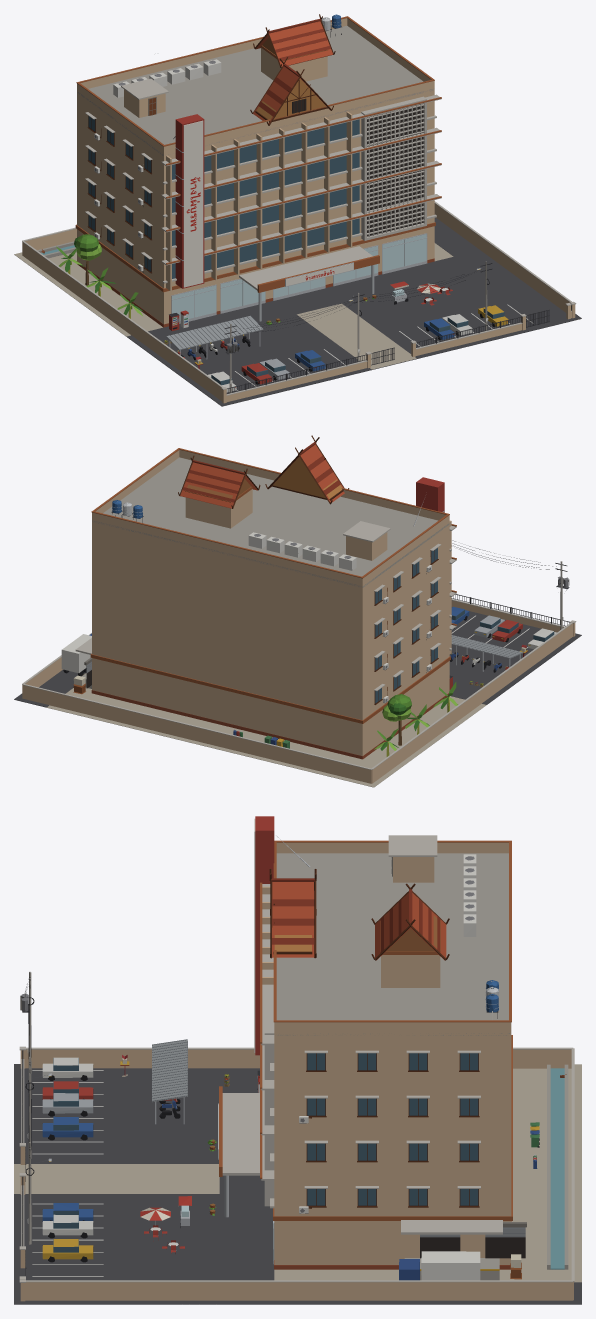
The model's file is store.glb.
3 views of the same model, one above another, from view 1: azimuth 30°, elevation 25°; view 2: azimuth 150°, elevation 25°; view 3: azimuth 270°, elevation 25° (orthographic). The views are drawn at different scales.
Visible parts, largest first — view 1: body, windows; view 2: body, windows; view 3: body, windows.
Part boxes in pixels (x1=…): body: x1=14, y1=14, x2=581, y2=406; windows: x1=88, y1=98, x2=507, y2=387; body: x1=14, y1=435, x2=581, y2=787; windows: x1=86, y1=548, x2=554, y2=703; body: x1=14, y1=816, x2=581, y2=1304; windows: x1=49, y1=818, x2=525, y2=1258.
Size of the model in its own units: 47.9 by 29.1 by 47.9.
